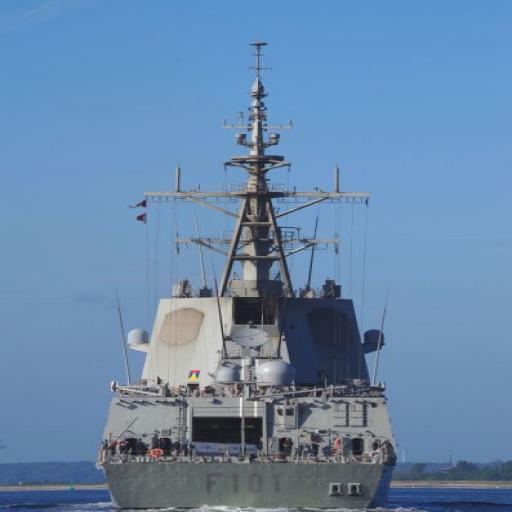Fragata: (83, 20, 404, 510)
